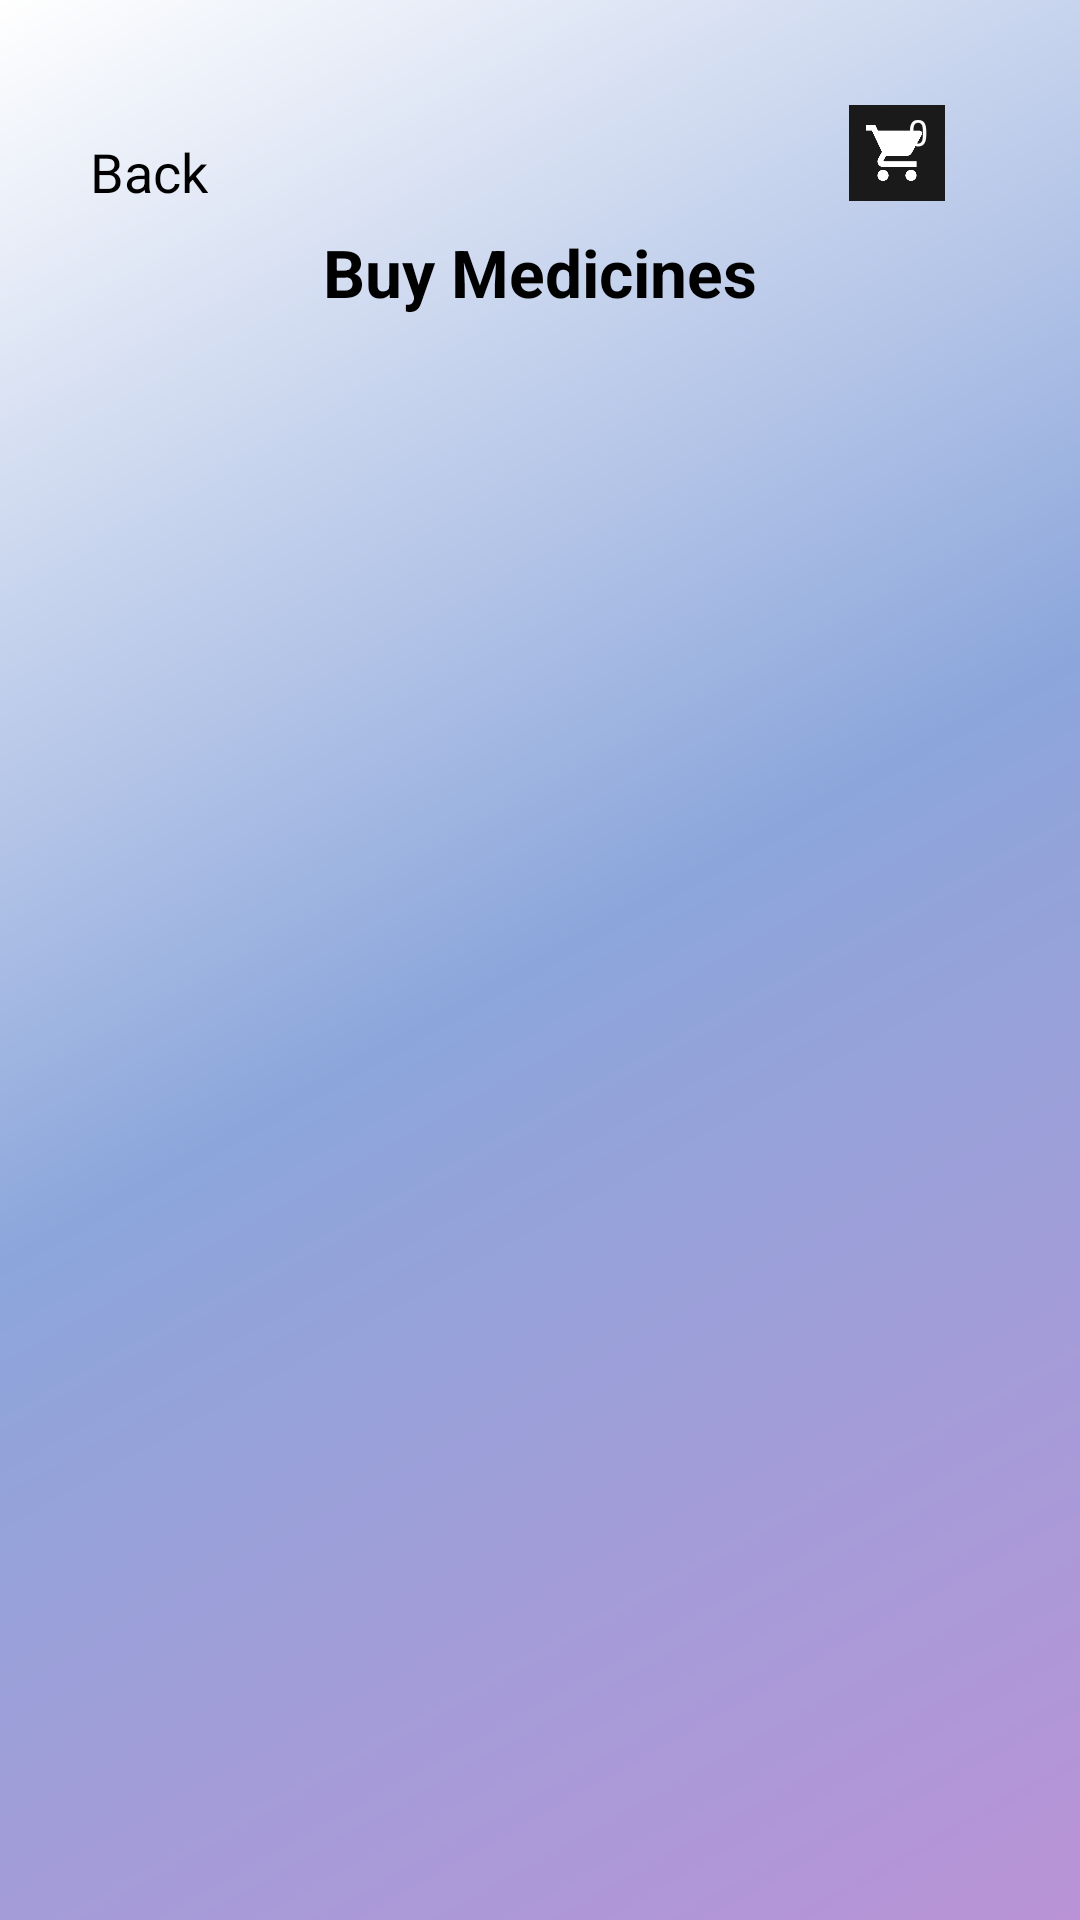

Icon click points for this 1080×1920 phone screenshot, format (x,y):
cart: (897,153)
